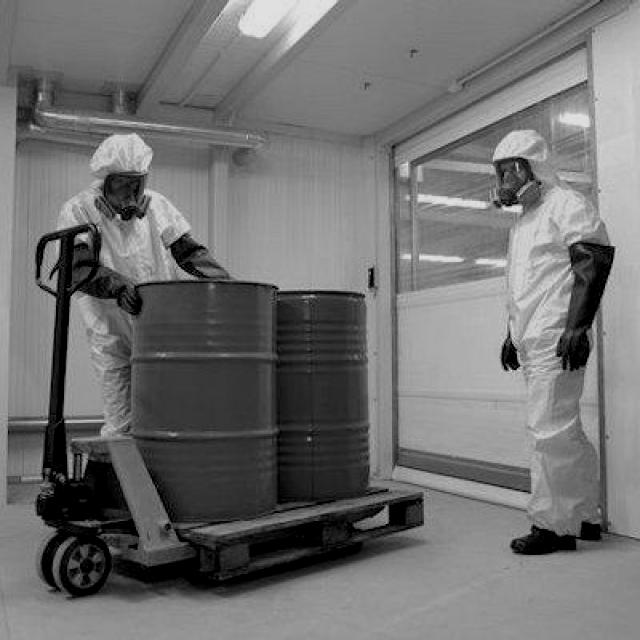face_mask: (490, 153, 539, 217), (98, 168, 152, 215)
hand_glove: (549, 251, 611, 371), (66, 246, 144, 317), (165, 233, 224, 290), (490, 312, 520, 376)
person: (490, 130, 611, 553), (56, 130, 186, 438)
shoes: (506, 523, 580, 562)
